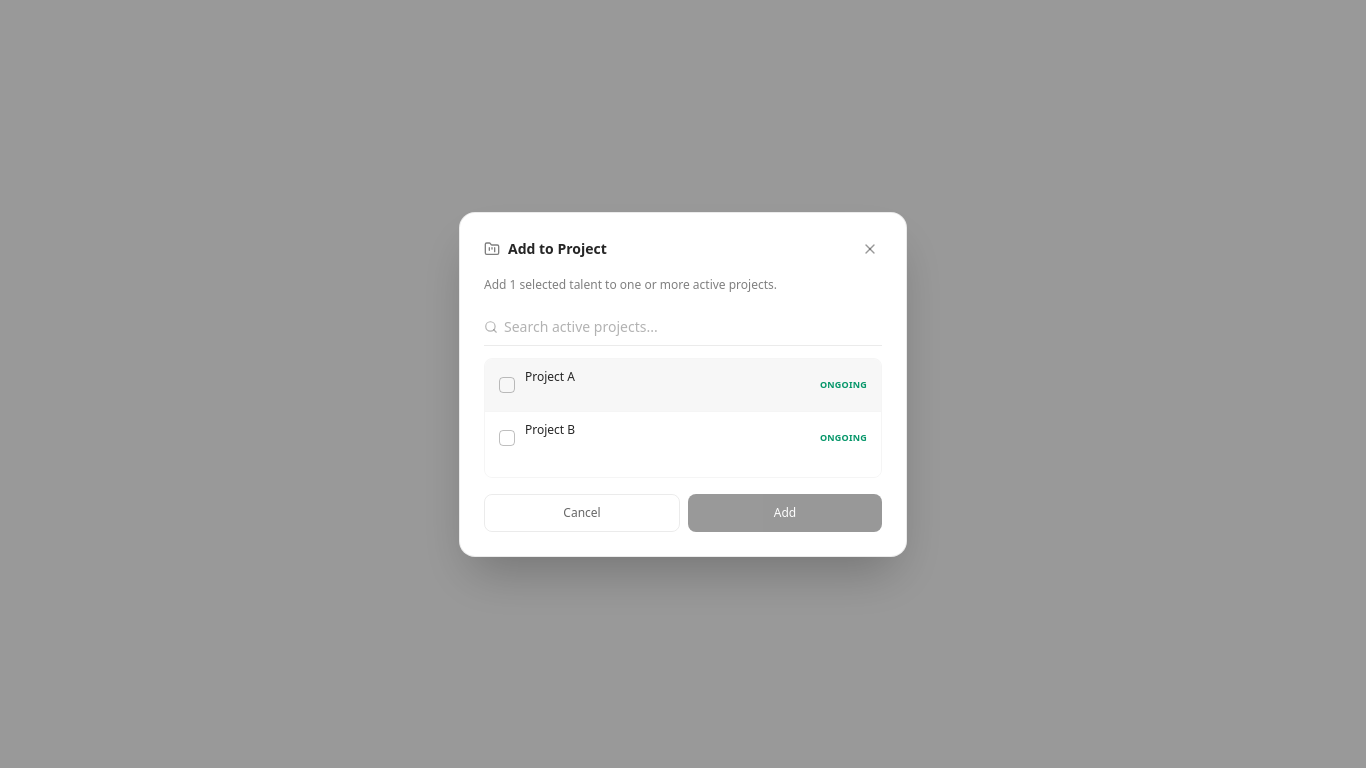
Test: AddToProjectModal — existing Add to Project behaviour is unchanged (regression) › loads active projects, adds selected talents, and reaches the Send Casting Call? step exactly as before
Check: the button with test id "add-to-project-option-proj-b" is shown, box [485,410,881,464]
Click the button with test id "add-to-project-option-proj-a" at (550, 376), box [485,358,881,410]
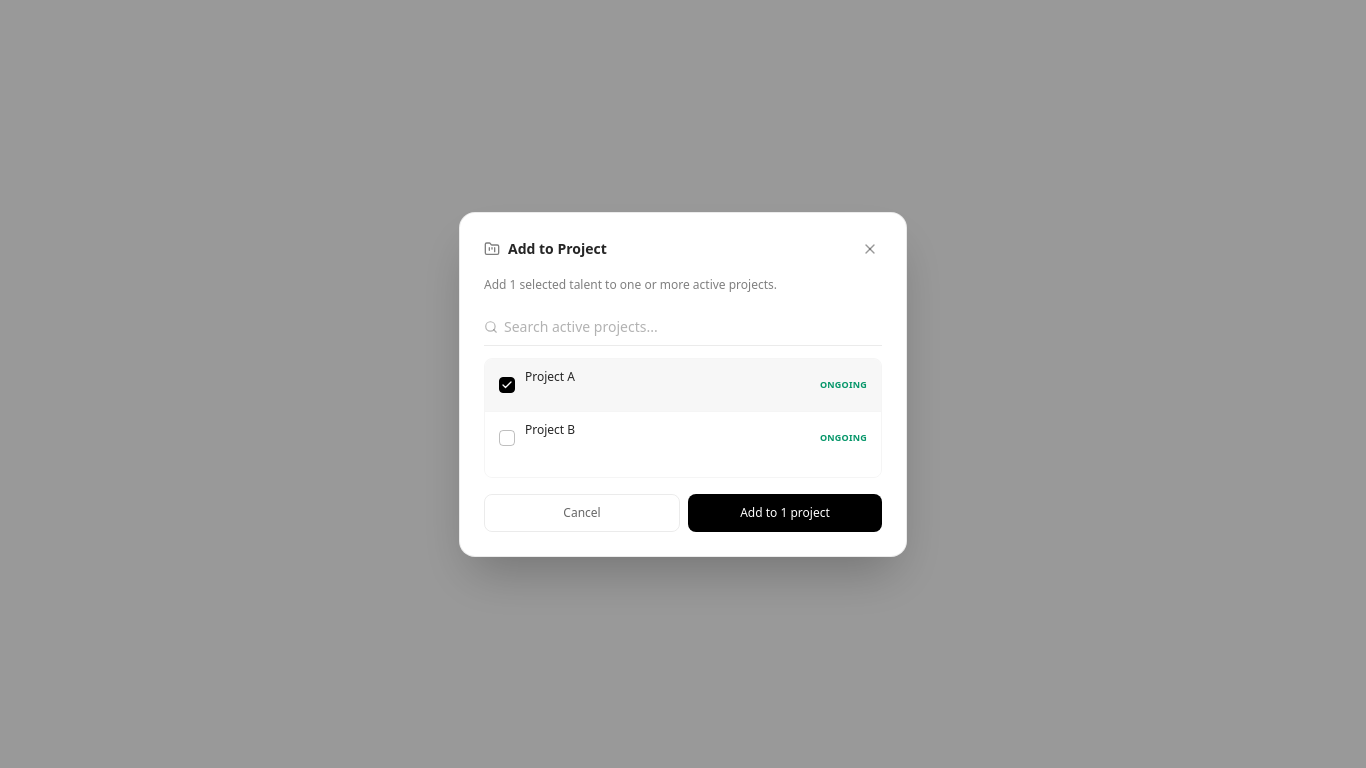
Click the button with test id "add-to-project-submit" at (785, 512), box [688,494,882,532]
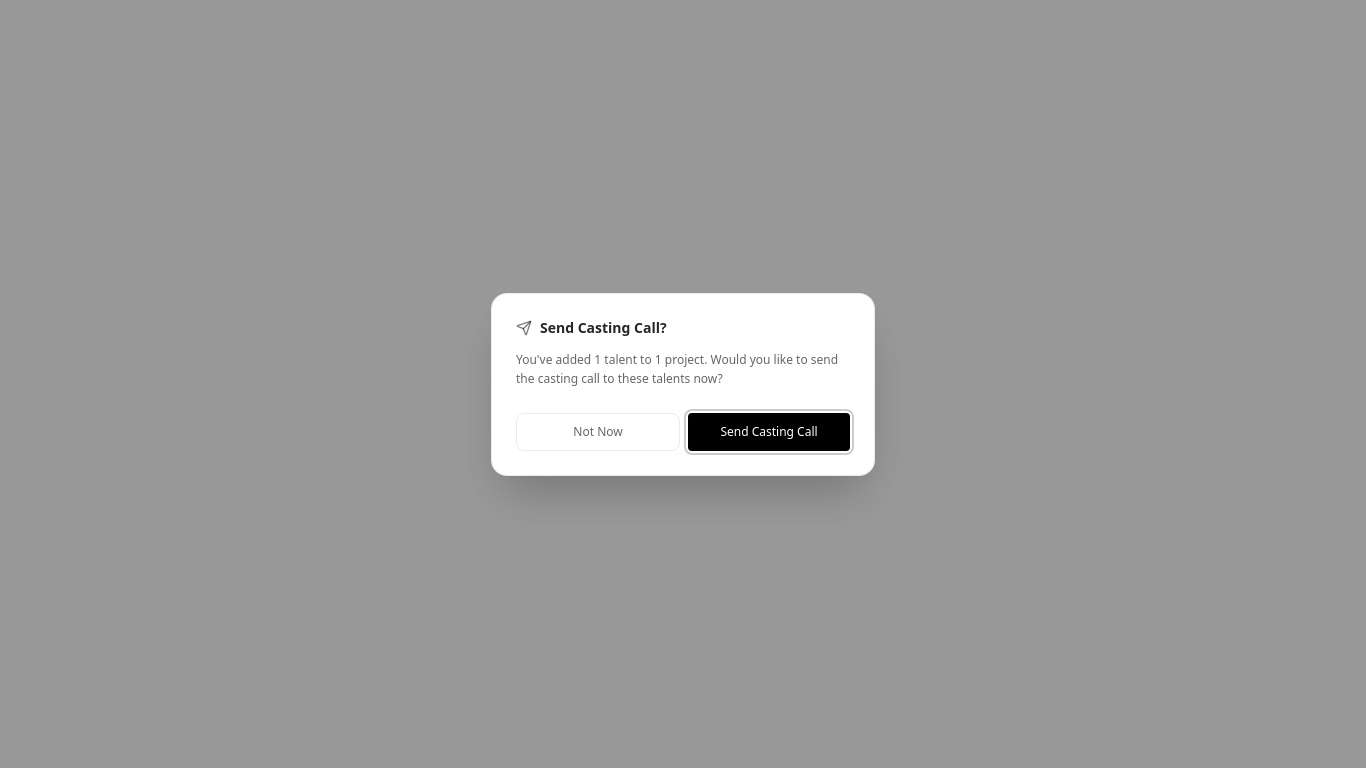
Check: the element with test id "send-casting-call-modal" is shown, box [491,292,875,476]
